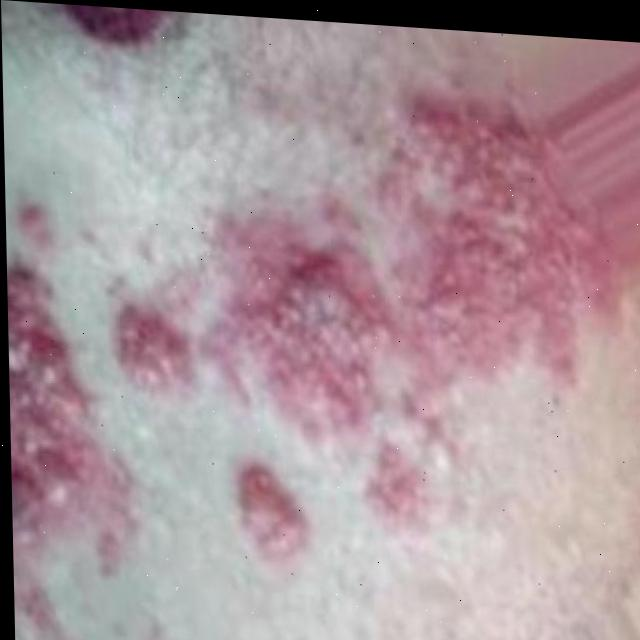Shingles: (118, 82, 615, 448), (7, 274, 133, 588), (232, 465, 316, 559), (359, 445, 427, 540)
